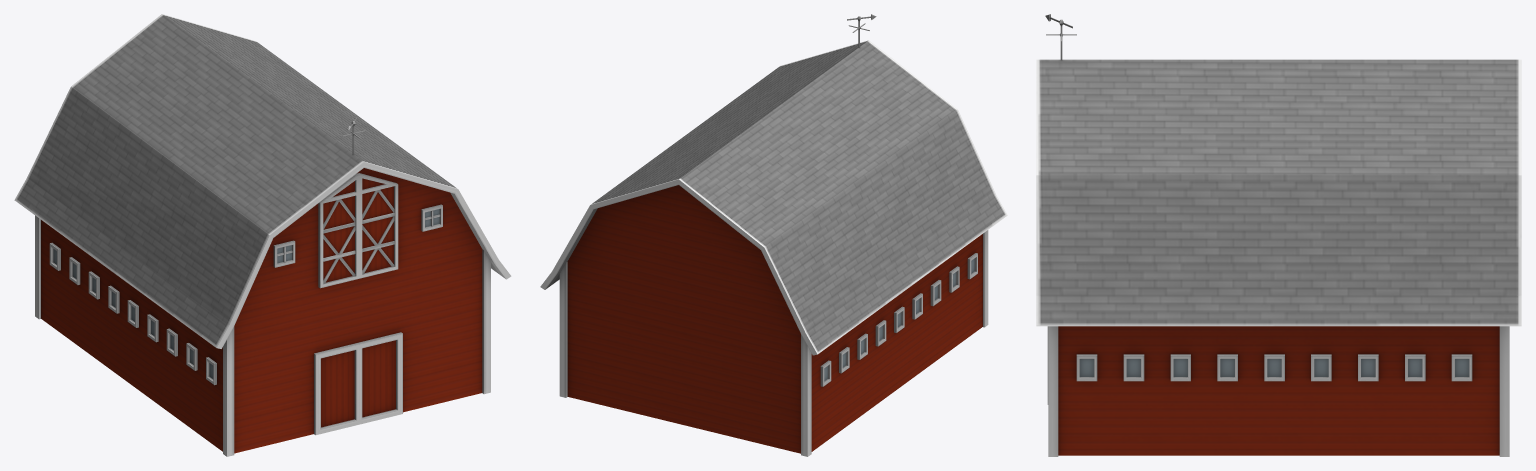
File: barn.glb
3 renders of one model, left to right at view 1: azimuth 30°, elevation 25°; view 2: azimuth 150°, elevation 25°; view 3: azimuth 270°, elevation 25°, orthographic. The views are drawn at different scales.
Parts seen in each view (by area): view 1: geometry_0; view 2: geometry_0; view 3: geometry_0.
Boxes of the visible parts, x1,y1,x2,y2 form: geometry_0: (14, 14, 511, 456); geometry_0: (540, 14, 1007, 456); geometry_0: (1036, 14, 1521, 456).
Size of the model in its own units: 1.03 by 1 by 1.22.
Materials: 1 (1 with a texture image).
